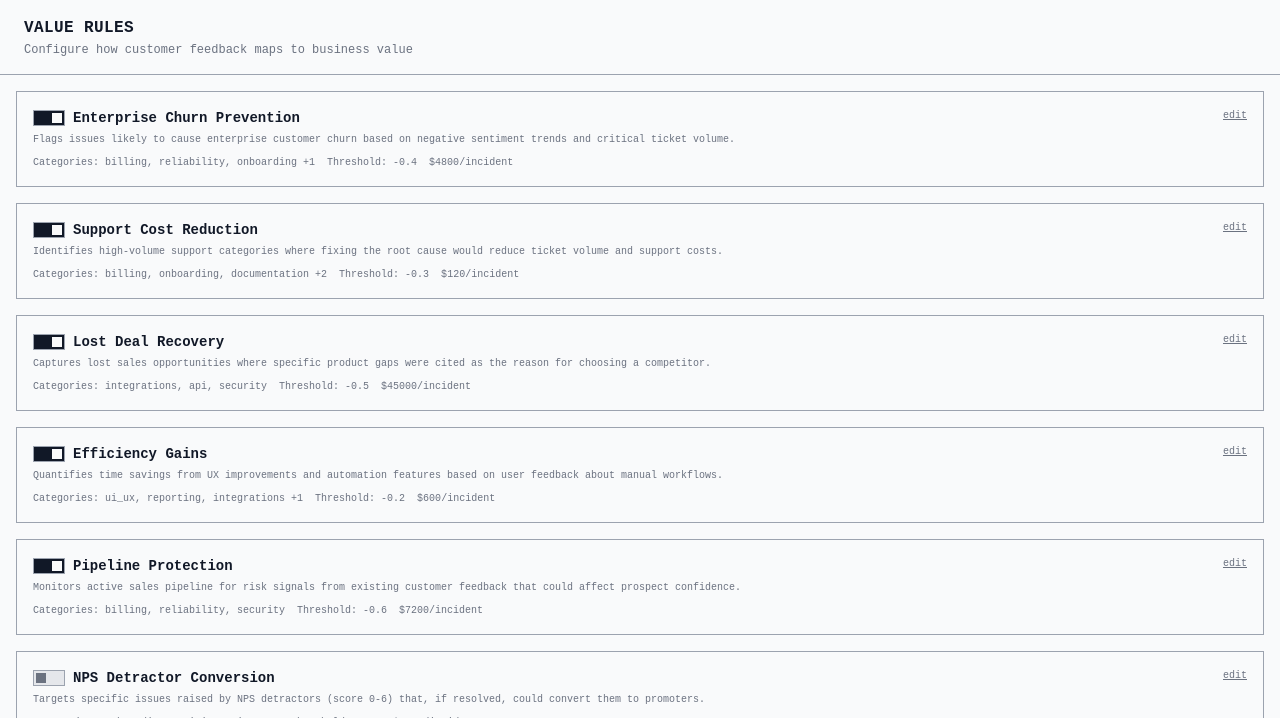
RulesList › editor expands on click
Click "edit" to expand
Click the button "edit" in the row of "Enterprise Churn Prevention". click: (1235, 116)
box: [1223, 108, 1247, 123]
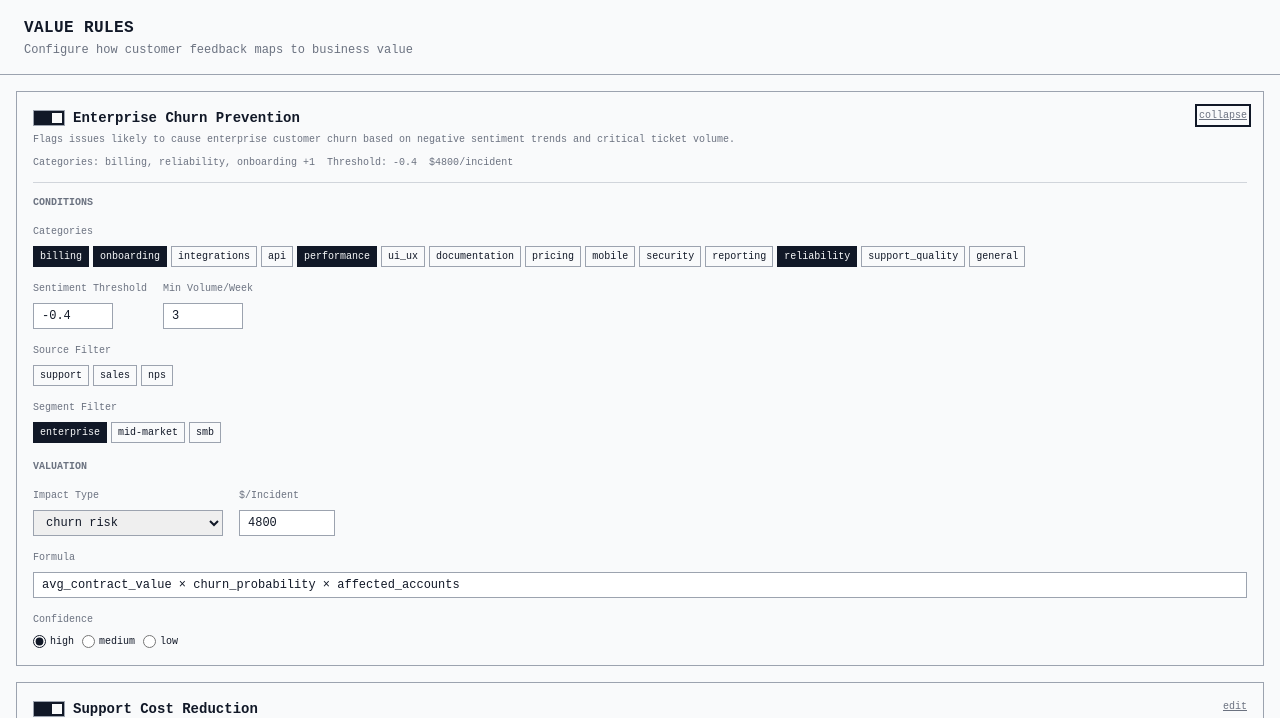
expect the heading "Conditions" is shown: met, box [33, 197, 93, 208]
expect the heading "Valuation" is shown: met, box [33, 461, 87, 472]
